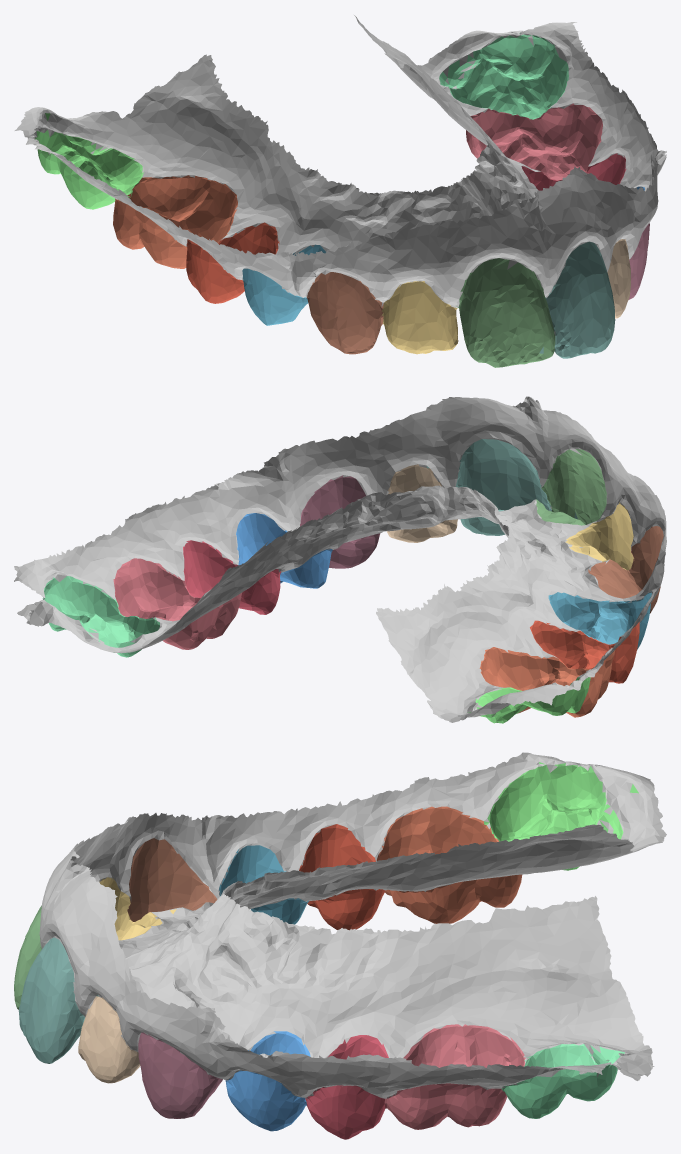
Rendered from ID100023_UPPER.obj.
3 renders of one model, top to bottom at view 1: azimuth 30°, elevation 25°; view 2: azimuth 150°, elevation 25°; view 3: azimuth 270°, elevation 25°, orthographic. The views are drawn at different scales.
Visible parts, largest first — view 1: pred_ID10023_LOWER.001; view 2: pred_ID10023_LOWER.001; view 3: pred_ID10023_LOWER.001.
Part boxes in pixels (bbox=[...]): pred_ID10023_LOWER.001: bbox=[14, 15, 666, 367]; pred_ID10023_LOWER.001: bbox=[14, 396, 666, 723]; pred_ID10023_LOWER.001: bbox=[14, 752, 666, 1139].
Size of the model in its own units: 58.99 by 17.05 by 54.63.
